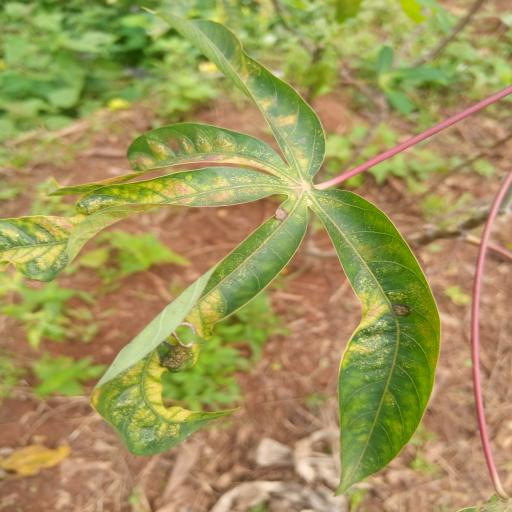Cassava_Mosaic: (6, 4, 448, 490)
